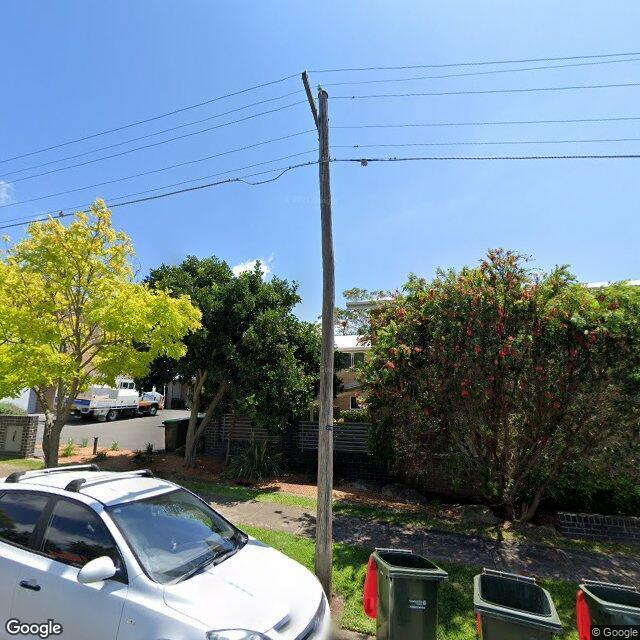crossarm: (302, 70, 319, 134)
timber-pole: (314, 88, 334, 601)
